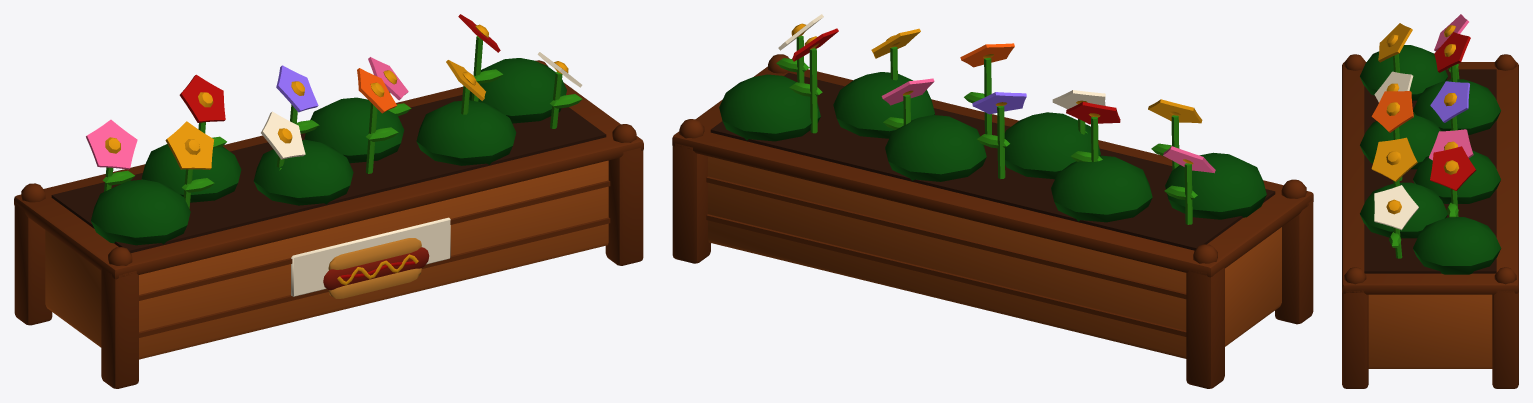
The model's file is Planter.fbx.
3 renders of one model, left to right at view 1: azimuth 30°, elevation 25°; view 2: azimuth 150°, elevation 25°; view 3: azimuth 270°, elevation 25°, orthographic. The views are drawn at different scales.
Visible parts, largest first — view 1: Planter; view 2: Planter; view 3: Planter.
Part boxes in pixels (x1=…): Planter: x1=14, y1=14, x2=643, y2=388; Planter: x1=672, y1=14, x2=1313, y2=388; Planter: x1=1342, y1=14, x2=1518, y2=388.
Bounding box in the file's own units: 6 × 2.44 × 2.
